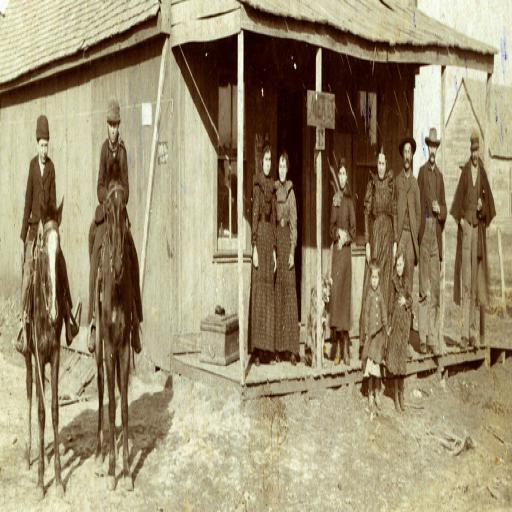Horse: (92, 160, 134, 488), (22, 192, 64, 499)
